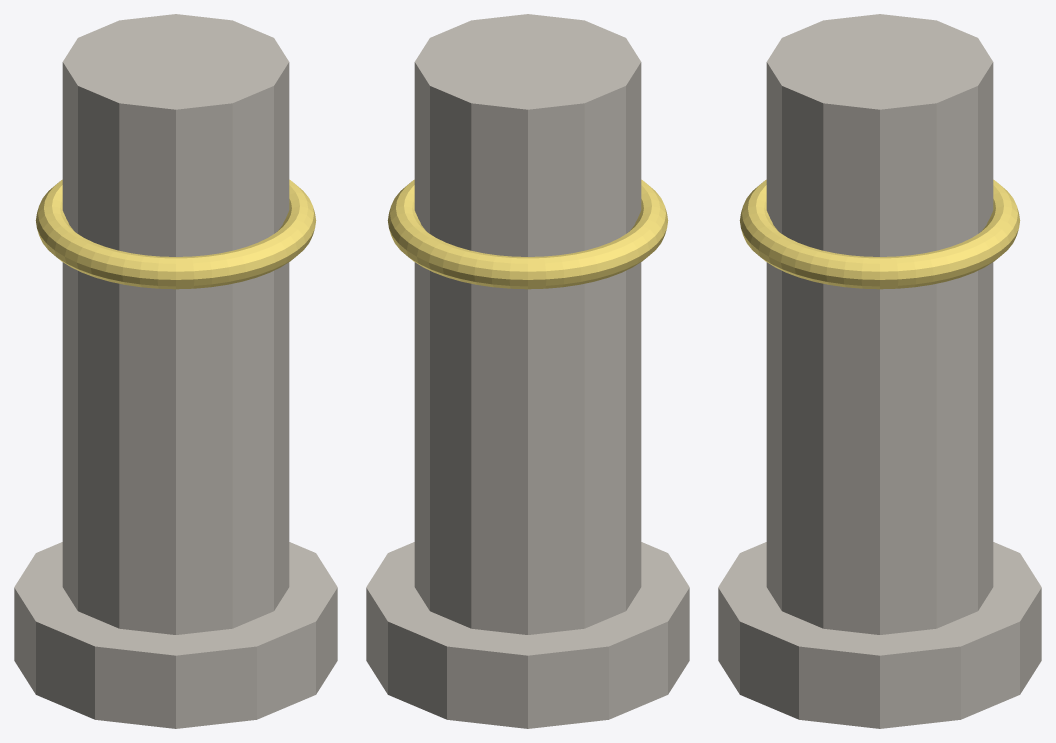
Rendered from ancient_pillar.glb.
3 views of the same model, side by side, from view 1: azimuth 30°, elevation 25°; view 2: azimuth 150°, elevation 25°; view 3: azimuth 270°, elevation 25° (orthographic).
Visible parts, largest first — view 1: PillarShaft, Cylinder, PillarGold; view 2: PillarShaft, Cylinder, PillarGold; view 3: PillarShaft, Cylinder, PillarGold.
Boxes of the visible parts, box(x1,y1,x2,y2) form: PillarShaft: box(62, 14, 289, 634); Cylinder: box(14, 542, 337, 728); PillarGold: box(35, 179, 316, 289); PillarShaft: box(414, 14, 641, 634); Cylinder: box(366, 542, 689, 728); PillarGold: box(387, 179, 668, 289); PillarShaft: box(766, 14, 993, 634); Cylinder: box(718, 542, 1041, 728); PillarGold: box(739, 179, 1020, 289).
Bounding box in the file's own units: 1.2 × 2.45 × 1.2.
